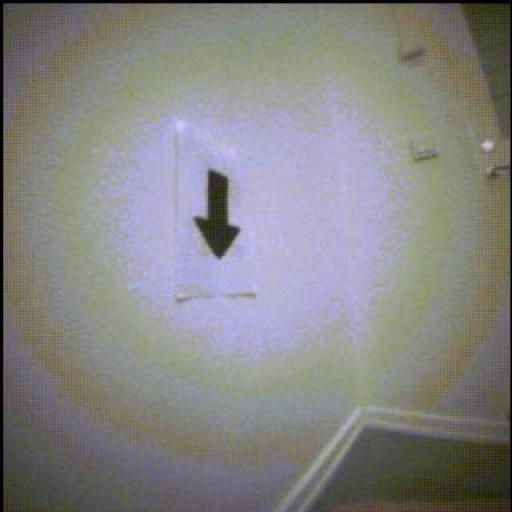Arrow: (196, 171, 241, 259)
